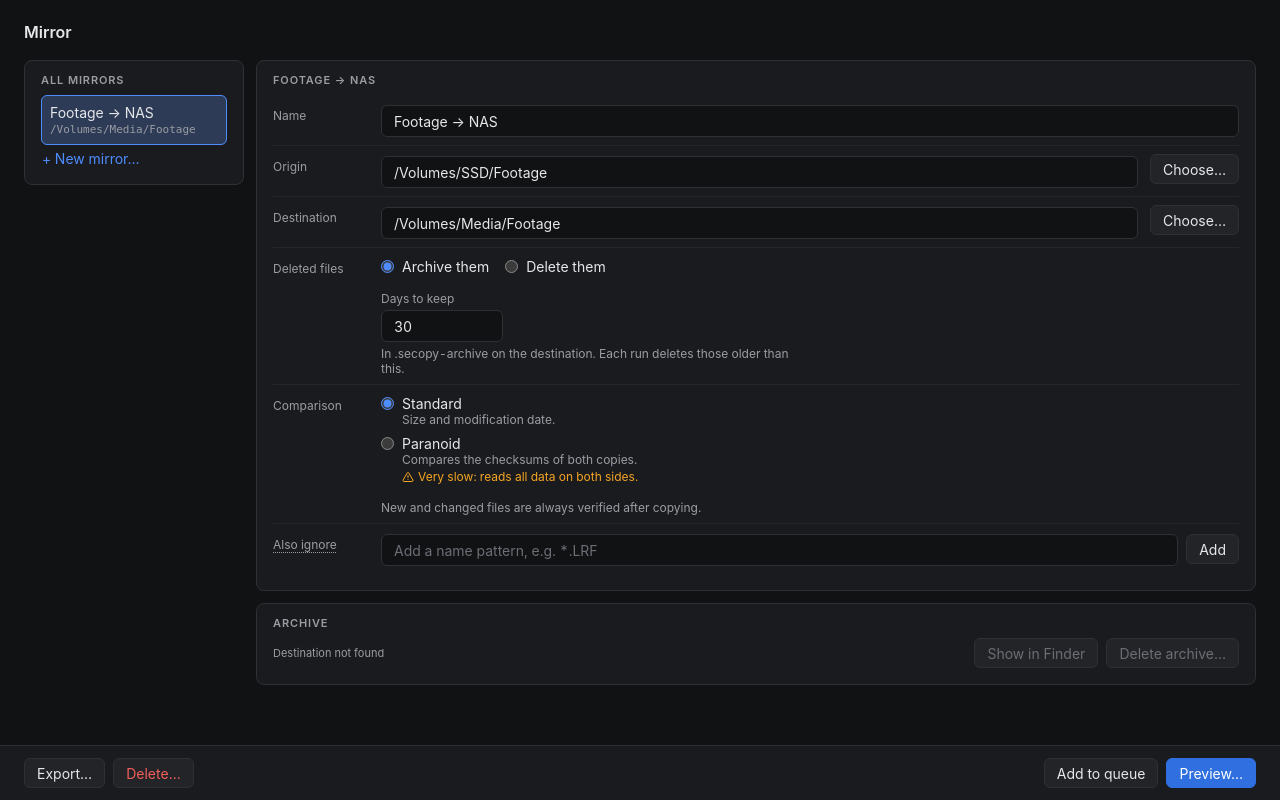
Test: MirrorScreen › the archive is looked at again after Save, with the same destination (#195)
Check: the text "Destination not found" is shown, box [273,646,384,660]
Click the radio button labelled "Paranoid" at (388, 444), box [381,437,394,450]
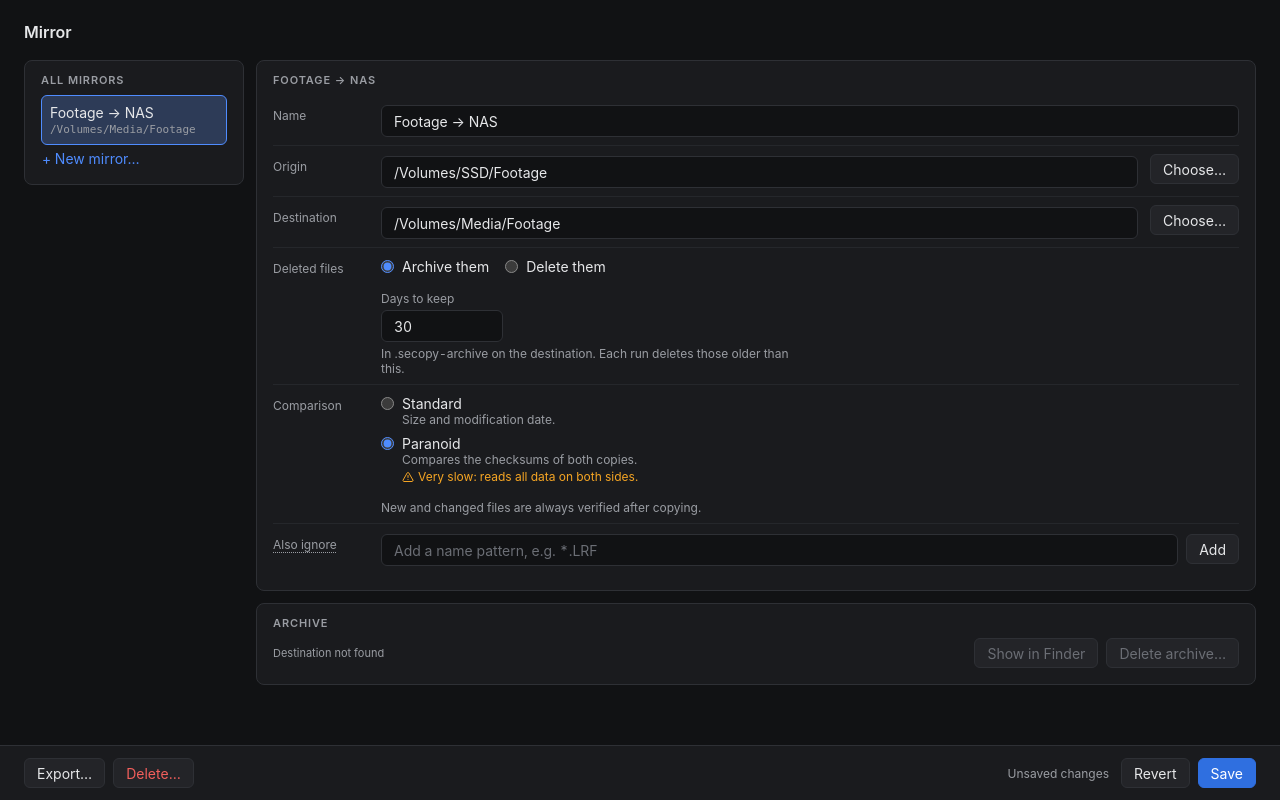
Click the button "Save" at (1227, 773), box [1198,758,1256,788]
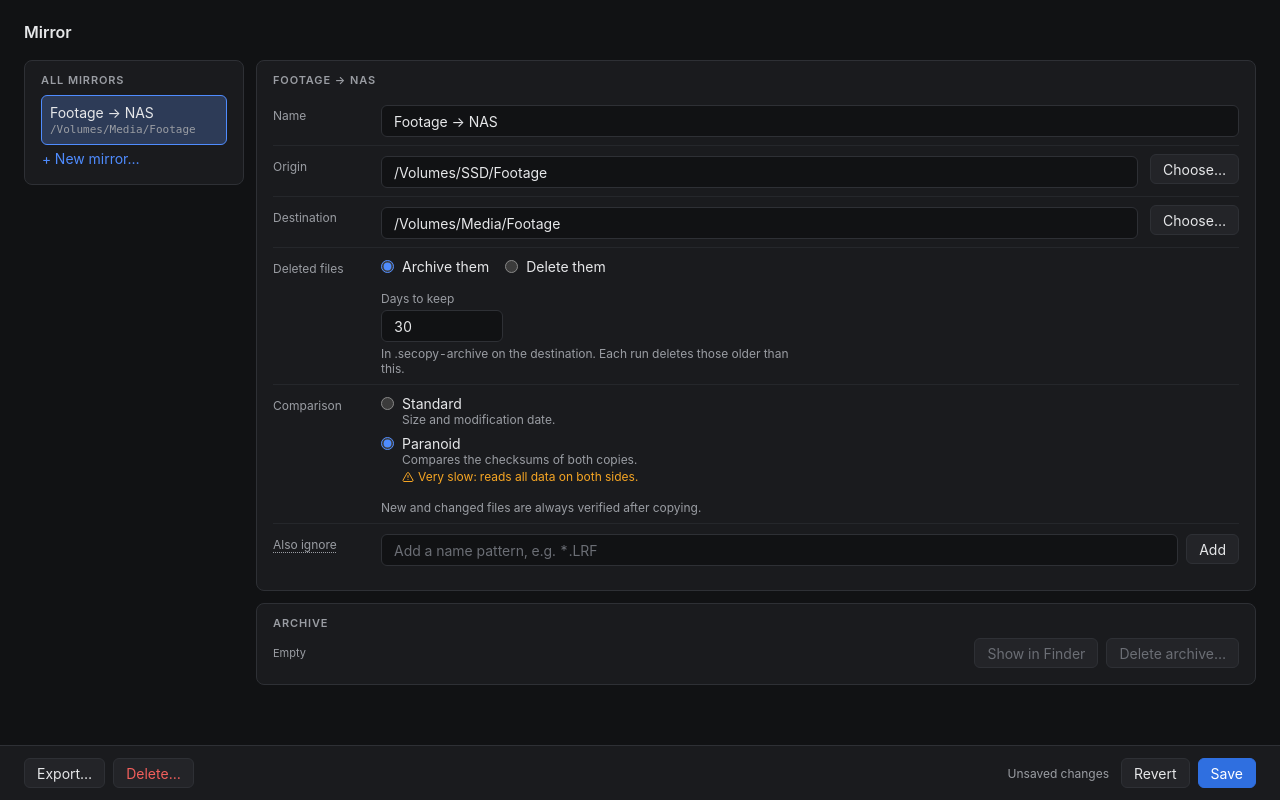
Check: the text "Empty" is shown, box [273,646,306,660]
